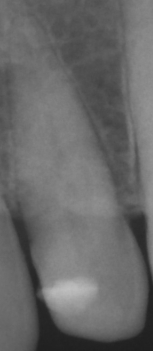tooth: (9, 14, 148, 342)
